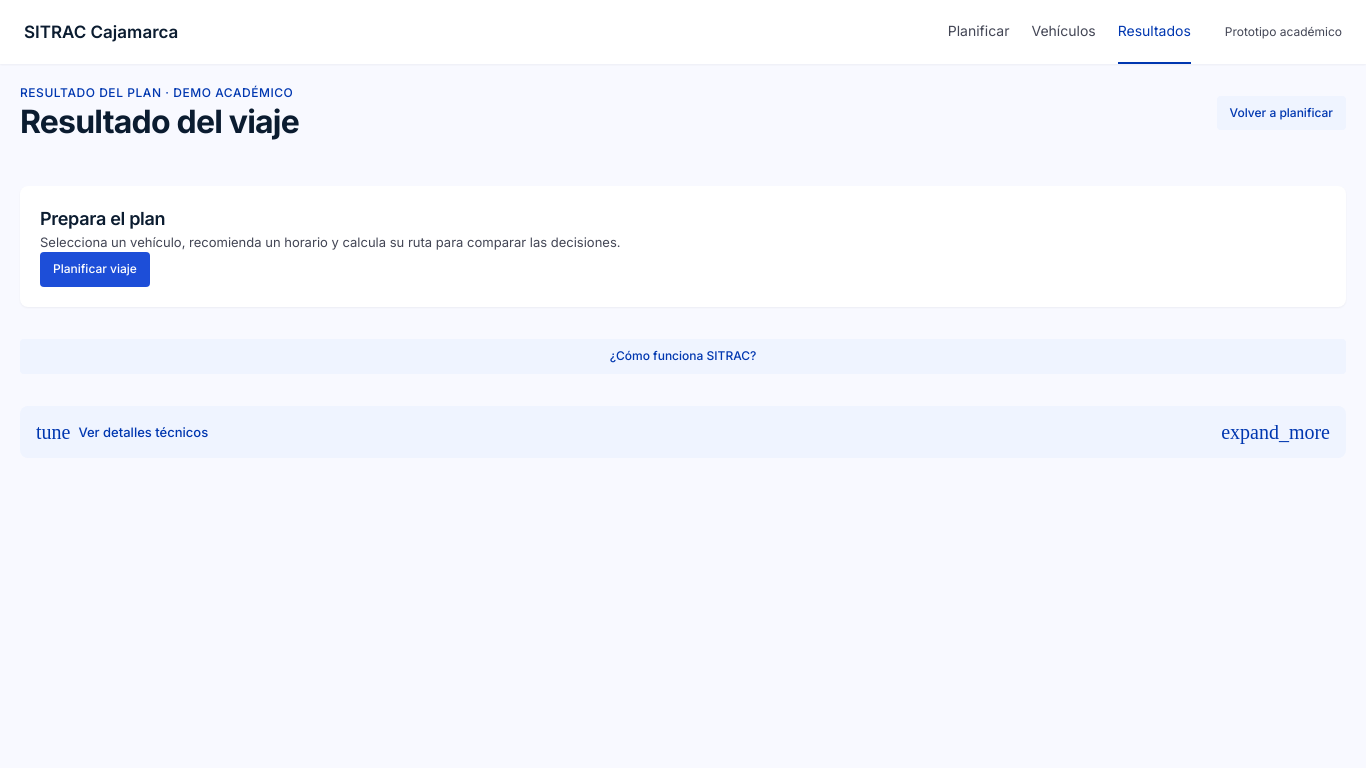
SITRAC · experiencia de planificación › mantiene resultados y detalles técnicos disponibles
Expected: the heading "Resultado del viaje" is shown, left=20, top=102, right=299, bottom=142
What coordinates should you click on to do the following:
click the text "Ver detalles técnicos"
I would click on:
 (143, 432)
Its box is left=78, top=424, right=208, bottom=440.
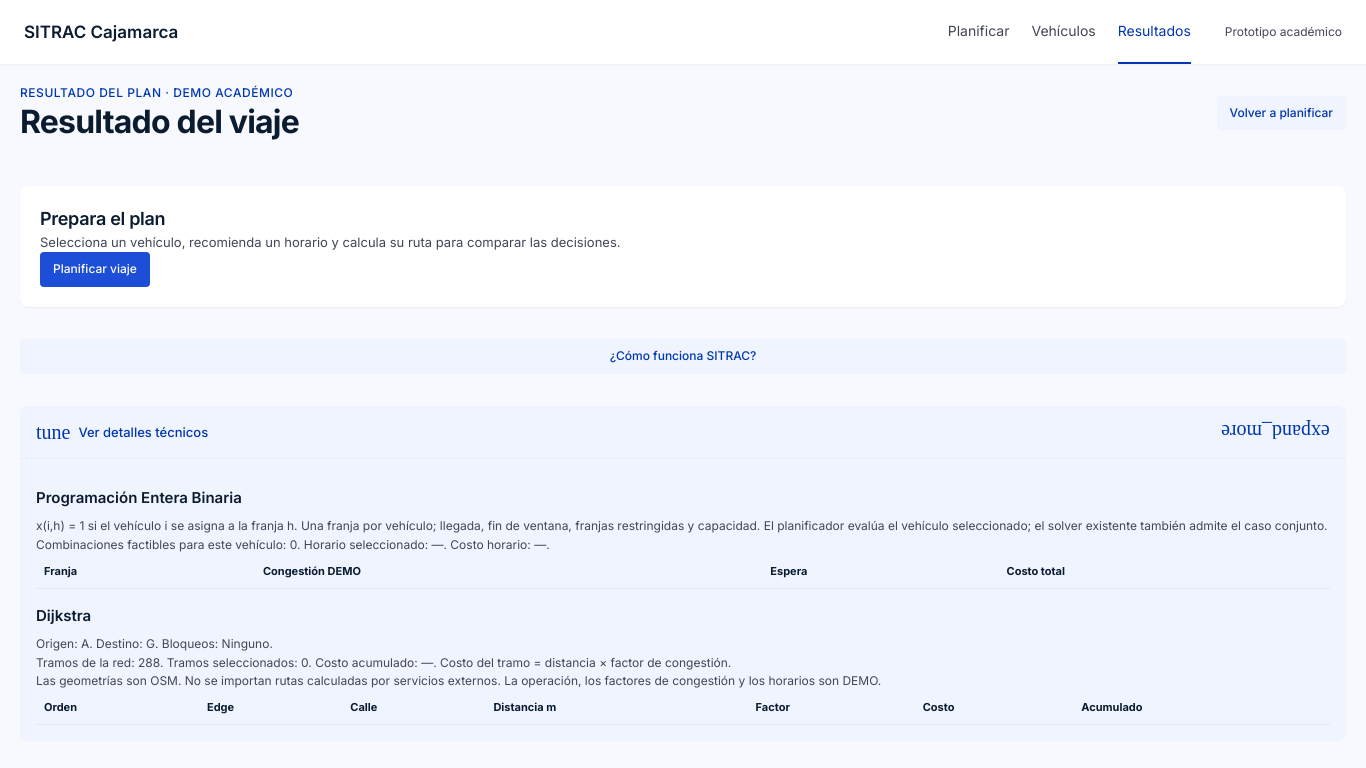
Expected: the heading "Dijkstra" is shown, left=36, top=606, right=91, bottom=625
